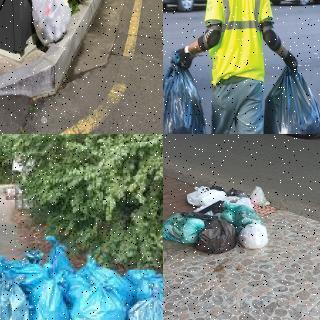Garbage: (163, 51, 215, 134), (264, 58, 320, 134), (68, 281, 128, 320), (27, 0, 74, 46), (0, 265, 37, 320), (28, 275, 71, 320), (197, 215, 238, 254), (163, 210, 204, 242), (124, 288, 163, 320), (238, 219, 271, 251), (223, 203, 265, 228), (187, 186, 226, 207)
